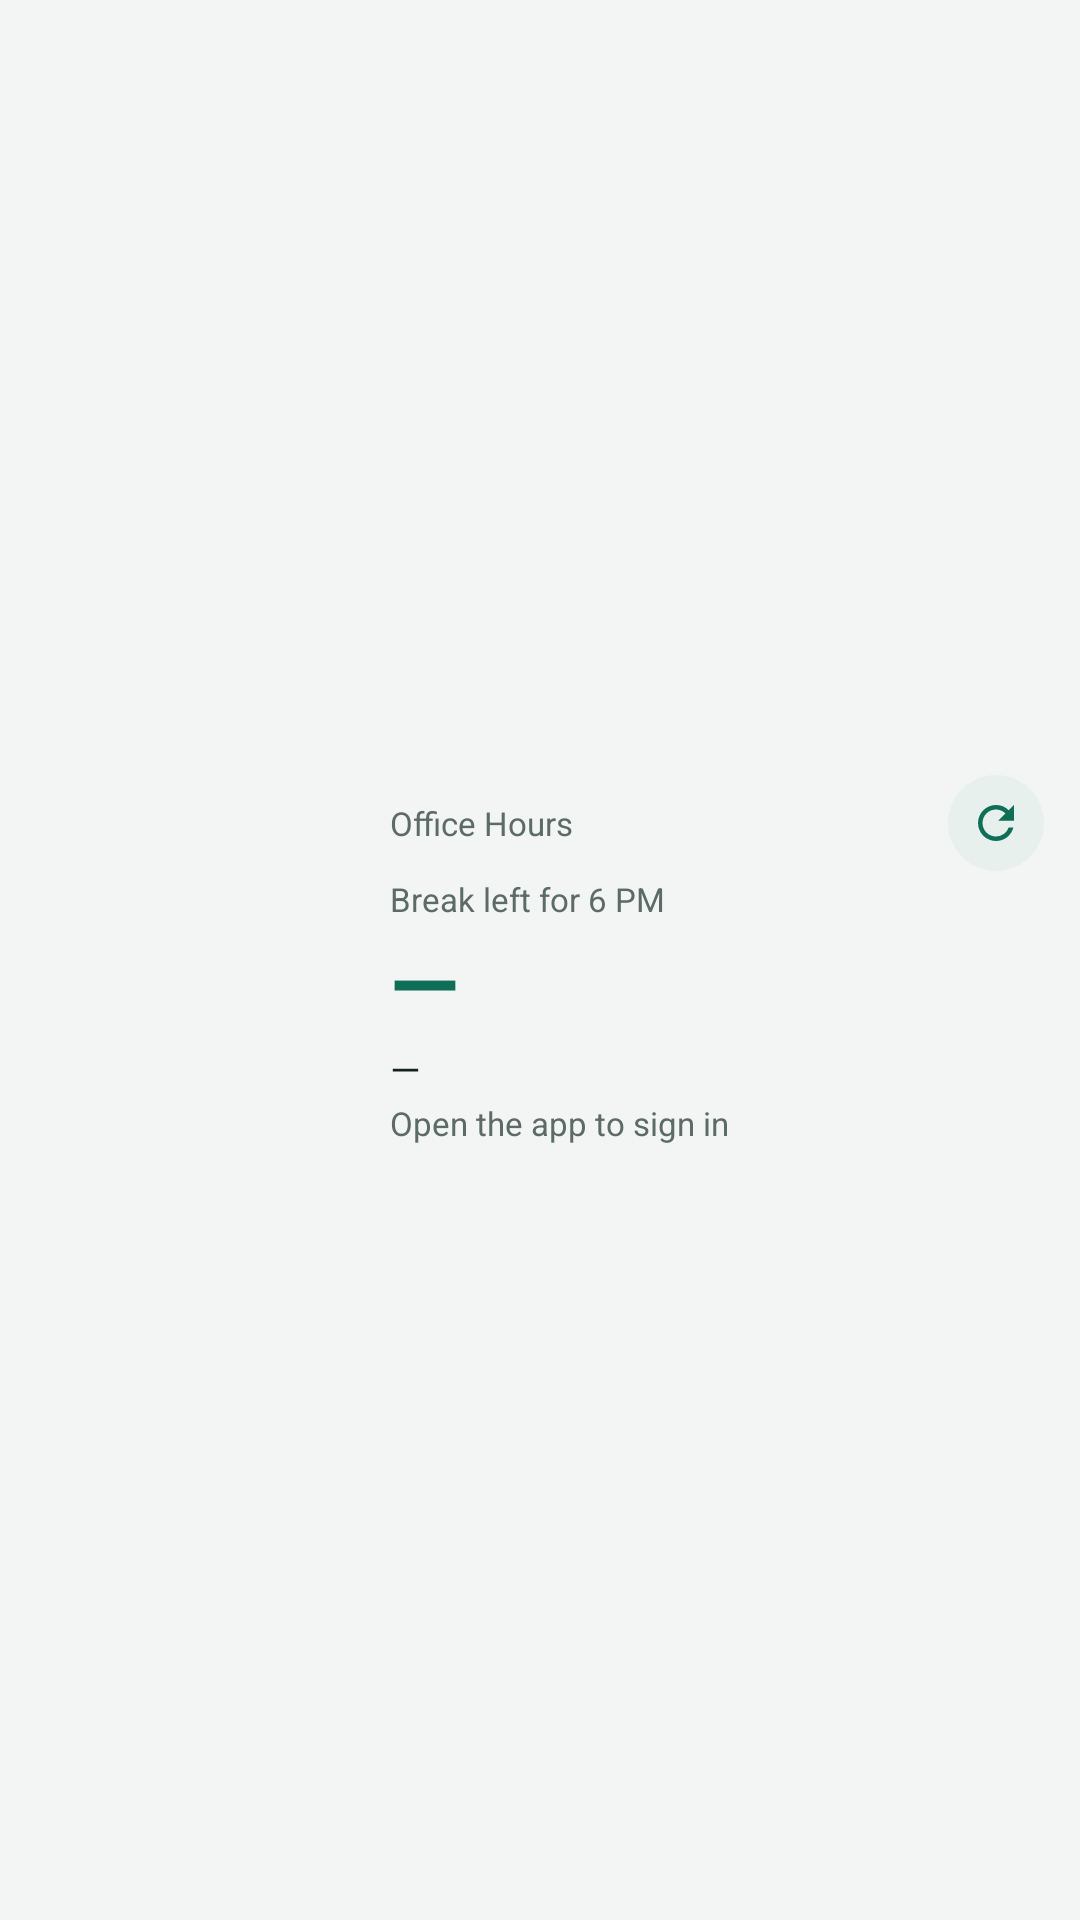

Screen size 1080 × 1920. Icon name, then its box in pixels as (x1,y1,x2,y2):
Refresh: (948,775,1044,871)
